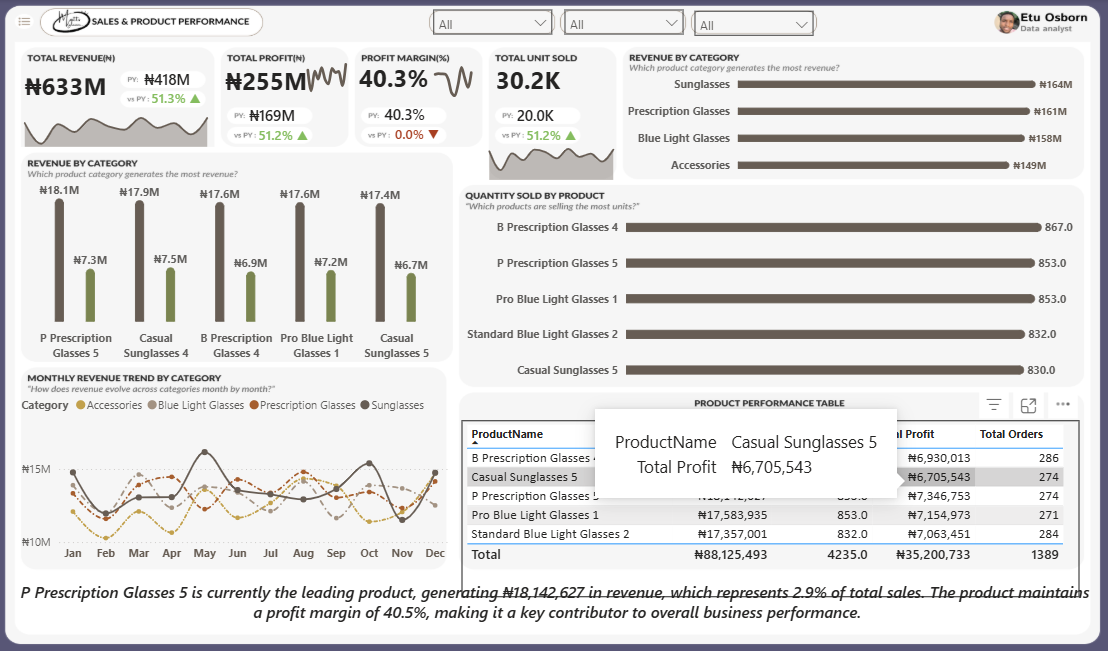

Layout of this report page (visuals, bound fields, positions):
{"tool":"powerbi","page":{"name":"SALES AND PRODUCT PERFORMANCE","canvas":[1280,720],"ordinal":1},"visuals":[{"type":"card","fields":{"Values":["DAX MEASURES.Total Revenue"]},"box":[20,82.9,105.7,28.6],"z":0},{"type":"card","fields":{"Values":["DAX MEASURES.Total Quantity"]},"box":[529.7,71.4,102.9,35.7],"z":1000},{"type":"card","fields":{"Values":["DAX MEASURES.Profit Margin %"]},"box":[382.9,72.9,101.4,30],"z":2000},{"type":"barChart","fields":{"Y":["DAX MEASURES.Total Revenue"],"Category":["Dim_Products.Category"]},"box":[682.9,57.1,502.9,154.3],"z":3000},{"type":"lineChart","fields":{"Series":["Dim_Products.Category"],"Y":["DAX MEASURES.Total Revenue"],"Category":["Dim_Date.Month"]},"box":[24.3,431.4,468.6,191.4],"z":4000},{"type":"clusteredColumnChart","fields":{"Category":["Dim_Products.ProductName"],"Y":["DAX MEASURES.Total Revenue","DAX MEASURES.Total Profit"]},"box":[0,191.4,507.1,207.1],"z":5000},{"type":"tableEx","fields":{"Values":["Dim_Products.ProductName","DAX MEASURES.Total Revenue","DAX MEASURES.Total Quantity","DAX MEASURES.Total Profit","DAX MEASURES.Total Orders"]},"box":[507.1,462.9,678.6,194.3],"z":6000},{"type":"barChart","fields":{"Category":["Dim_Products.ProductName"],"Y":["DAX MEASURES.Total Quantity"]},"box":[507.1,207.1,678.6,237.1],"z":7000},{"type":"slicer","fields":{"Values":["Dim_Date.Year"]},"box":[472,6.9,140,42.5],"z":8000},{"type":"card","fields":{"Values":["DAX MEASURES.Total Profit"]},"box":[242.9,71.4,101.4,38.6],"z":9000},{"type":"card","fields":{"Values":["DAX MEASURES.Profit PY"]},"box":[260.7,115.3,78.2,26.1],"z":10000},{"type":"card","fields":{"Values":["DAX MEASURES.% YoY REVENUE"]},"box":[155.6,100,78.9,15.6],"z":11000},{"type":"areaChart","fields":{"Y":["DAX MEASURES.Total Revenue"],"Category":["Dim_Date.MonthNo"]},"box":[0,111.1,293.3,51.1],"z":12000},{"type":"areaChart","fields":{"Category":["Dim_Date.MonthNo"],"Y":["DAX MEASURES.Total Quantity"]},"box":[516.2,147.7,205.4,50.8],"z":13000},{"type":"lineChart","fields":{"Category":["Dim_Date.MonthNo"],"Y":["DAX MEASURES.Total Profit"]},"box":[325.2,56.3,76.8,50.8],"z":14000},{"type":"lineChart","fields":{"Category":["Dim_Date.MonthNo"],"Y":["DAX MEASURES.Profit Margin %"]},"box":[465.2,61.7,74.1,52.1],"z":15000},{"type":"card","fields":{"Values":["DAX MEASURES.% YoY PROFIT MARGIN"]},"box":[419.9,140,78.2,15.1],"z":16000},{"type":"card","fields":{"Values":["DAX MEASURES.% YoY PROFIT"]},"box":[273.1,142.7,78.2,16.5],"z":17000},{"type":"card","fields":{"Values":["DAX MEASURES.% YoY QUANTITY"]},"box":[566.7,141.3,79.6,15.1],"z":18000},{"type":"card","fields":{"Values":["DAX MEASURES.Revenue PY"]},"box":[145.5,75.5,78.2,26],"z":19000},{"type":"card","fields":{"Values":["DAX MEASURES.PROFIT MARGIN PY"]},"box":[406.2,113.9,78.2,26.1],"z":20000},{"type":"card","fields":{"Values":["DAX MEASURES.Total Quantity PY"]},"box":[550.3,115.3,76.8,26.1],"z":21000},{"type":"slicer","fields":{"Values":["Dim_Customers.Gender"]},"box":[616.1,6.9,140,42.5],"z":22000},{"type":"card","fields":{"Values":["DAX MEASURES.PRODUCT INSIGHT"]},"box":[20.6,602.4,1184.2,118],"z":23000},{"type":"slicer","fields":{"Values":["Dim_Customers.City"]},"box":[758.8,8.2,140,42.5],"z":24000}]}

Visuals, with their boxes on the page's 1280x720 design canvas (x1, y1, x2, y2). These are canvas units, not pixel positions in the 1108x651 screenshot, which may show the page scaled, cropped or inside an application window:
card - DAX MEASURES.Total Revenue: bbox=(20, 83, 126, 112)
card - DAX MEASURES.Total Quantity: bbox=(530, 71, 633, 107)
card - DAX MEASURES.Profit Margin %: bbox=(383, 73, 484, 103)
barChart - DAX MEASURES.Total Revenue x Dim_Products.Category: bbox=(683, 57, 1186, 211)
lineChart - Dim_Products.Category x DAX MEASURES.Total Revenue: bbox=(24, 431, 493, 623)
clusteredColumnChart - Dim_Products.ProductName x DAX MEASURES.Total Revenue: bbox=(0, 191, 507, 398)
tableEx - Dim_Products.ProductName x DAX MEASURES.Total Revenue: bbox=(507, 463, 1186, 657)
barChart - Dim_Products.ProductName x DAX MEASURES.Total Quantity: bbox=(507, 207, 1186, 444)
slicer - Dim_Date.Year: bbox=(472, 7, 612, 49)
card - DAX MEASURES.Total Profit: bbox=(243, 71, 344, 110)
card - DAX MEASURES.Profit PY: bbox=(261, 115, 339, 141)
card - DAX MEASURES.% YoY REVENUE: bbox=(156, 100, 234, 116)
areaChart - DAX MEASURES.Total Revenue x Dim_Date.MonthNo: bbox=(0, 111, 293, 162)
areaChart - Dim_Date.MonthNo x DAX MEASURES.Total Quantity: bbox=(516, 148, 722, 198)
lineChart - Dim_Date.MonthNo x DAX MEASURES.Total Profit: bbox=(325, 56, 402, 107)
lineChart - Dim_Date.MonthNo x DAX MEASURES.Profit Margin %: bbox=(465, 62, 539, 114)
card - DAX MEASURES.% YoY PROFIT MARGIN: bbox=(420, 140, 498, 155)
card - DAX MEASURES.% YoY PROFIT: bbox=(273, 143, 351, 159)
card - DAX MEASURES.% YoY QUANTITY: bbox=(567, 141, 646, 156)
card - DAX MEASURES.Revenue PY: bbox=(146, 76, 224, 102)
card - DAX MEASURES.PROFIT MARGIN PY: bbox=(406, 114, 484, 140)
card - DAX MEASURES.Total Quantity PY: bbox=(550, 115, 627, 141)
slicer - Dim_Customers.Gender: bbox=(616, 7, 756, 49)
card - DAX MEASURES.PRODUCT INSIGHT: bbox=(21, 602, 1205, 720)
slicer - Dim_Customers.City: bbox=(759, 8, 899, 51)
